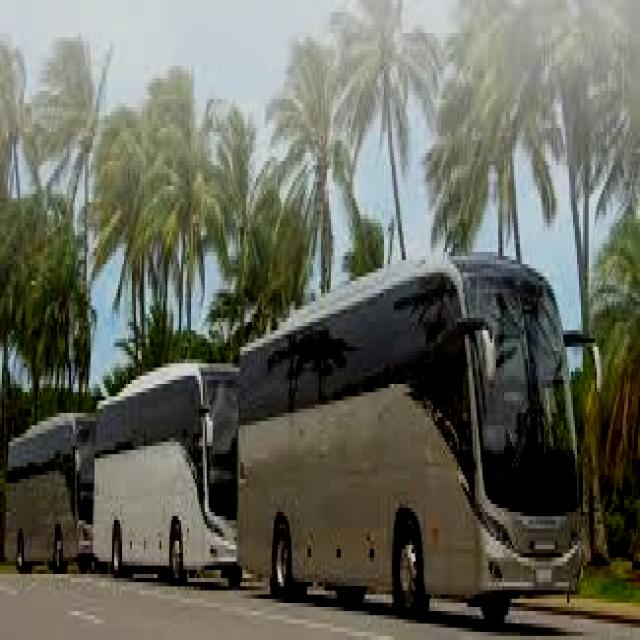bus: (226, 238, 594, 626), (86, 360, 248, 597), (5, 392, 95, 583)
